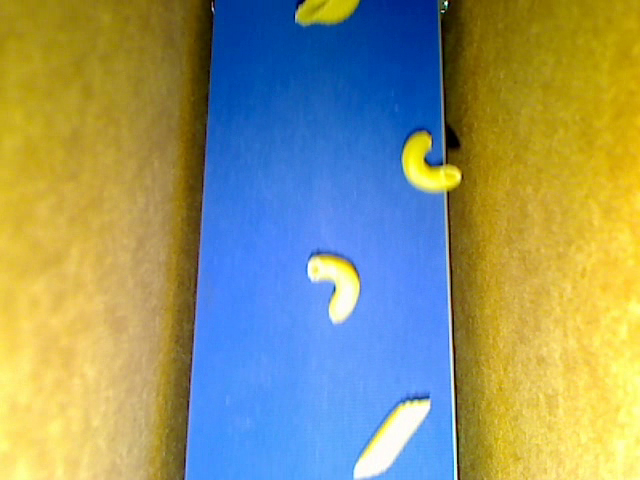elbow: (400, 129, 462, 194), (307, 251, 360, 325)
penne: (353, 398, 432, 479)
shell: (294, 1, 360, 28)
